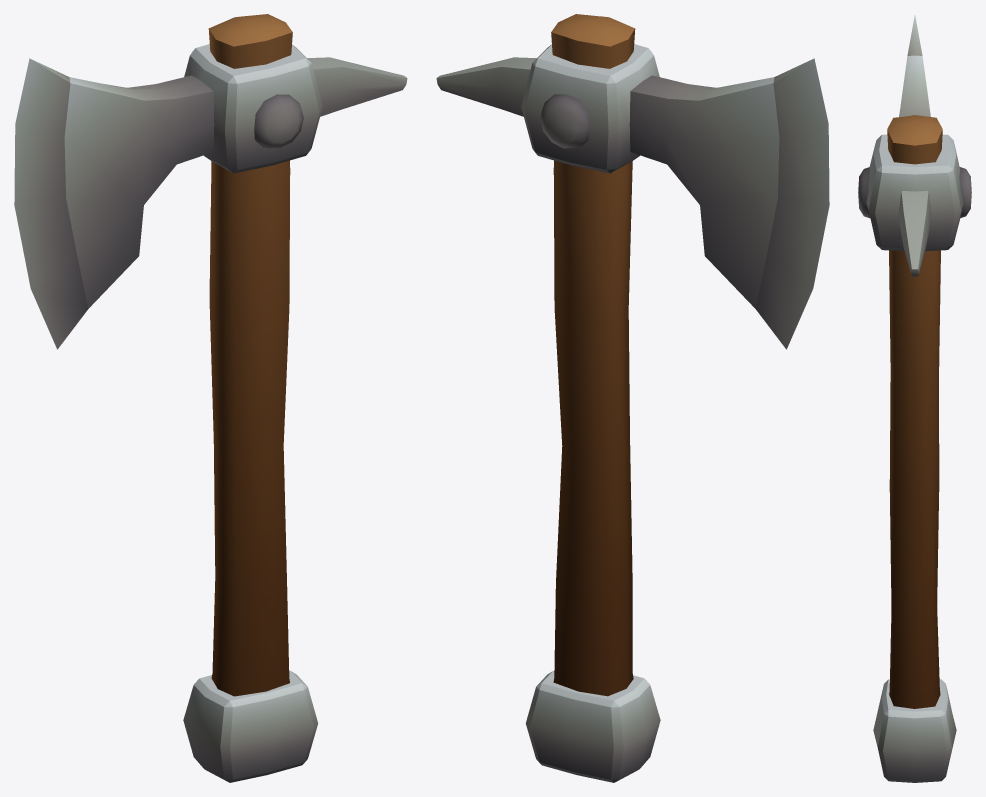
Rendered from Axe_04.glb.
3 views of the same model, side by side, from view 1: azimuth 30°, elevation 25°; view 2: azimuth 150°, elevation 25°; view 3: azimuth 270°, elevation 25° (orthographic). The views are drawn at different scales.
Visible parts, largest first — view 1: Axe_04; view 2: Axe_04; view 3: Axe_04.
Boxes of the visible parts, x1,y1,x2,y2 form: Axe_04: (14,14,407,782); Axe_04: (436,14,829,782); Axe_04: (858,15,971,782).
Size of the model in its own units: 0.5968 by 1.1 by 0.1729.
1 material, 1 textured.
